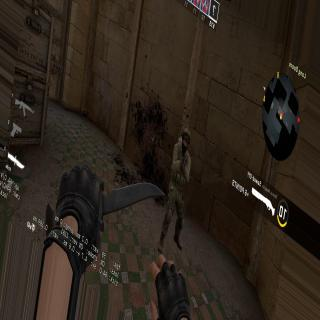CT-Body: (158, 125, 194, 250)
CT-Head: (178, 129, 190, 153)
